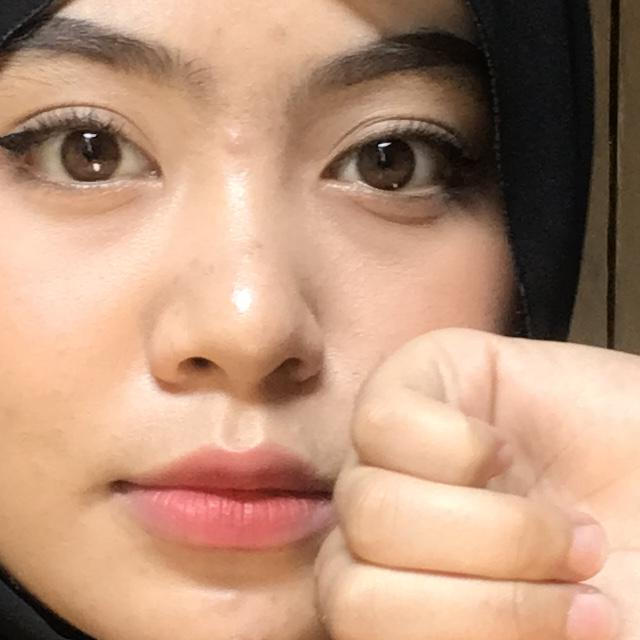sedih: (250, 246, 640, 640)
